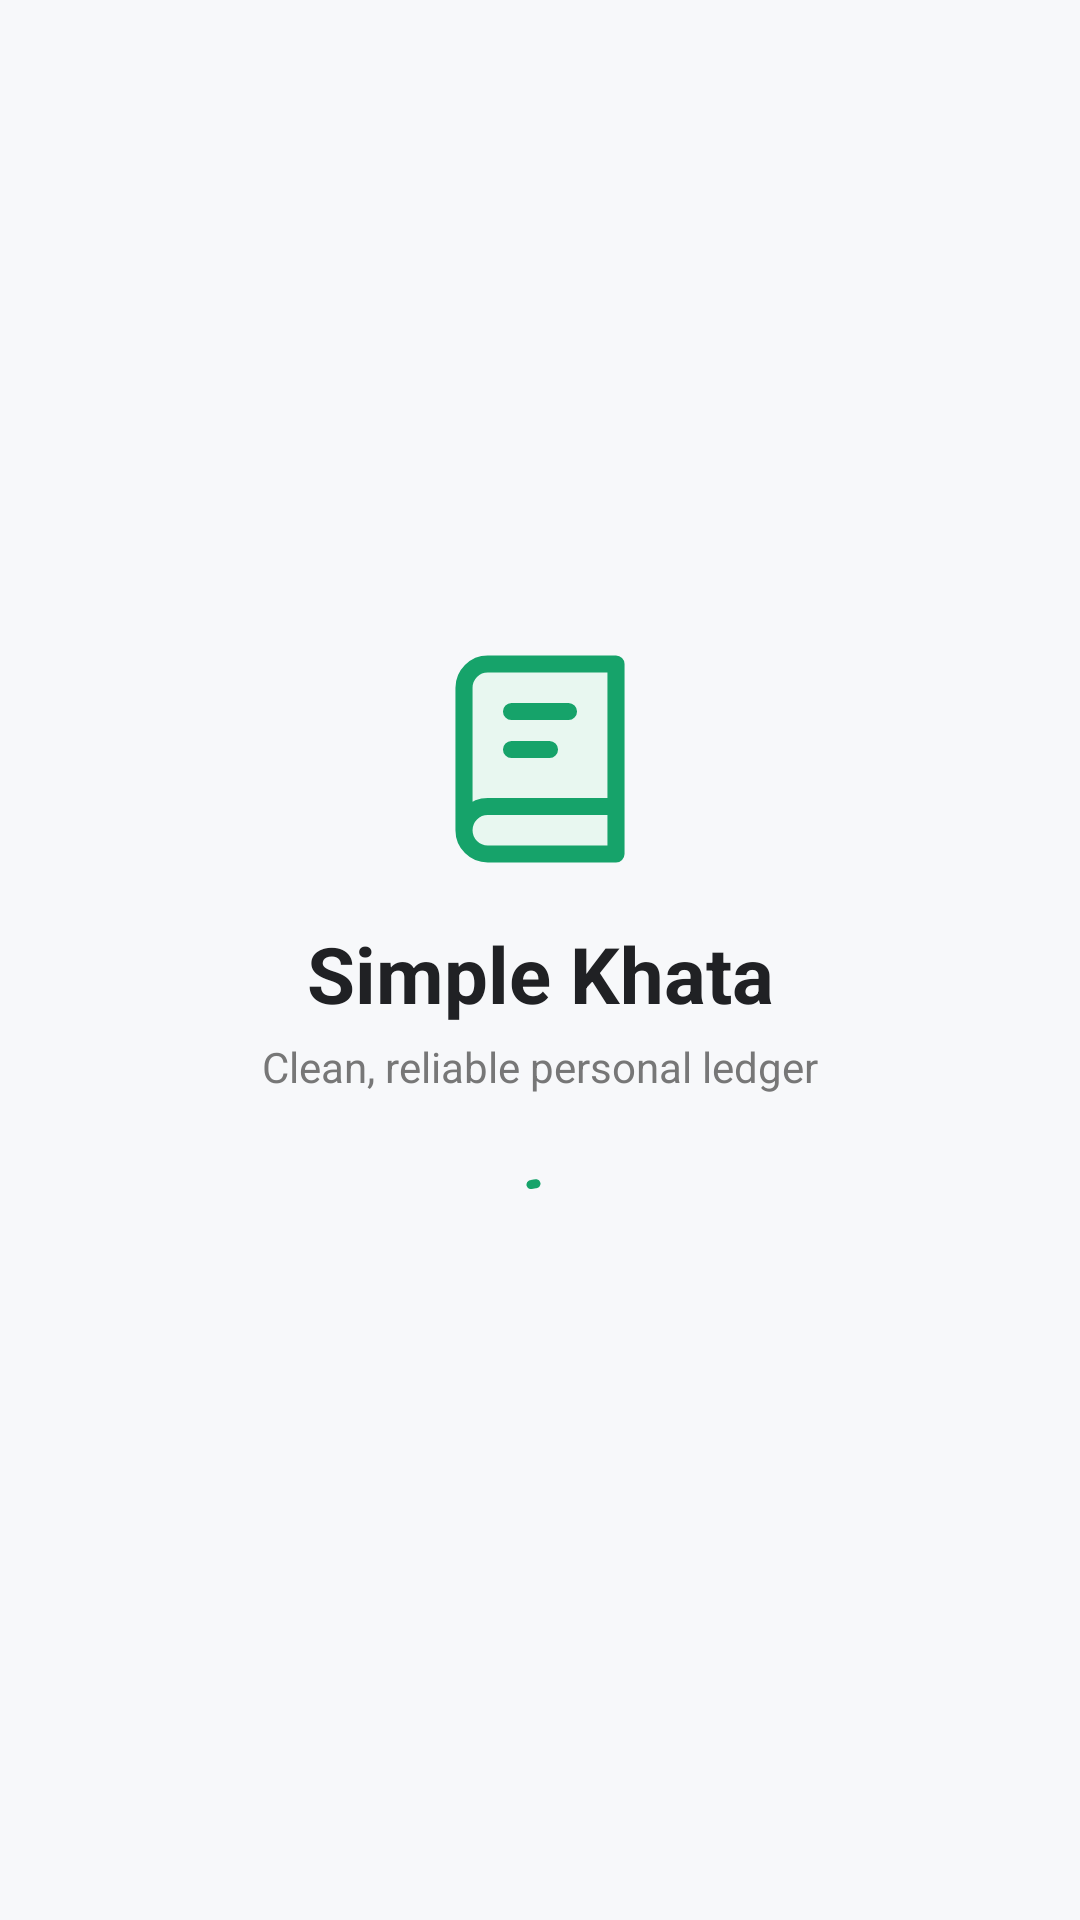

Point at icon controls on the screen. Image size 1080×1920, points as point (x, y).
ledger emblem: point (540, 759)
